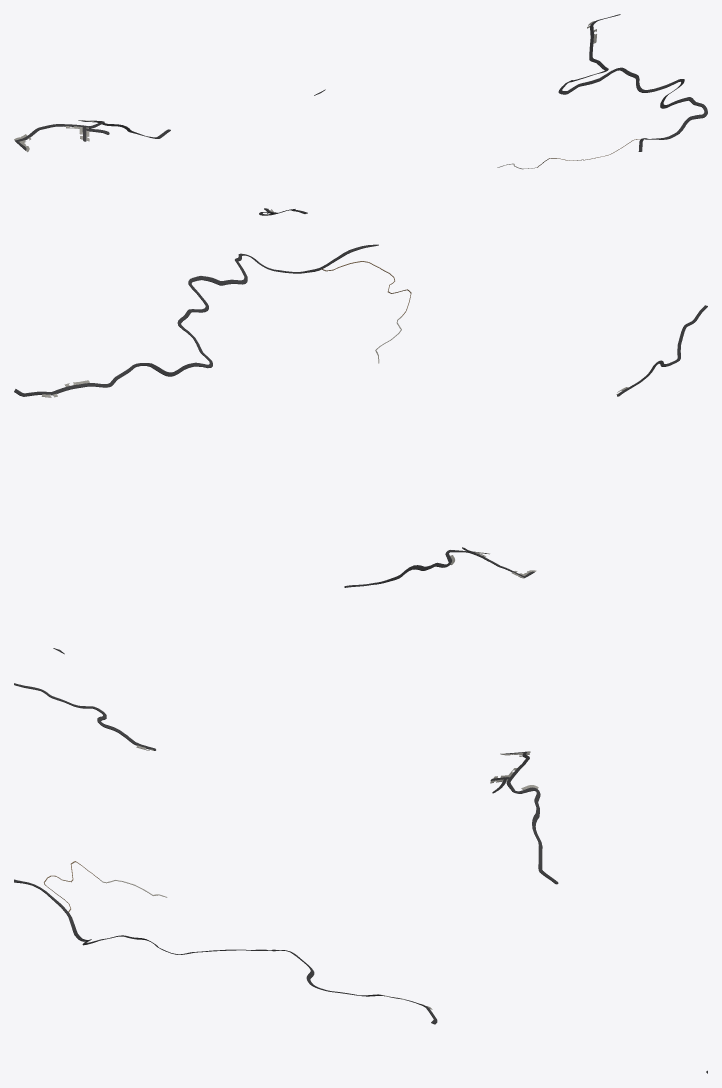
The model's file is 15-27364-14865.31392eed.glb.
The picture shows the model from 3 angles, top to bottom: view 1: azimuth 30°, elevation 25°; view 2: azimuth 150°, elevation 25°; view 3: azimuth 270°, elevation 25°; orthographic projection. The views are drawn at different scales.
Size of the model in its own units: 1173 by 397 by 1166.
